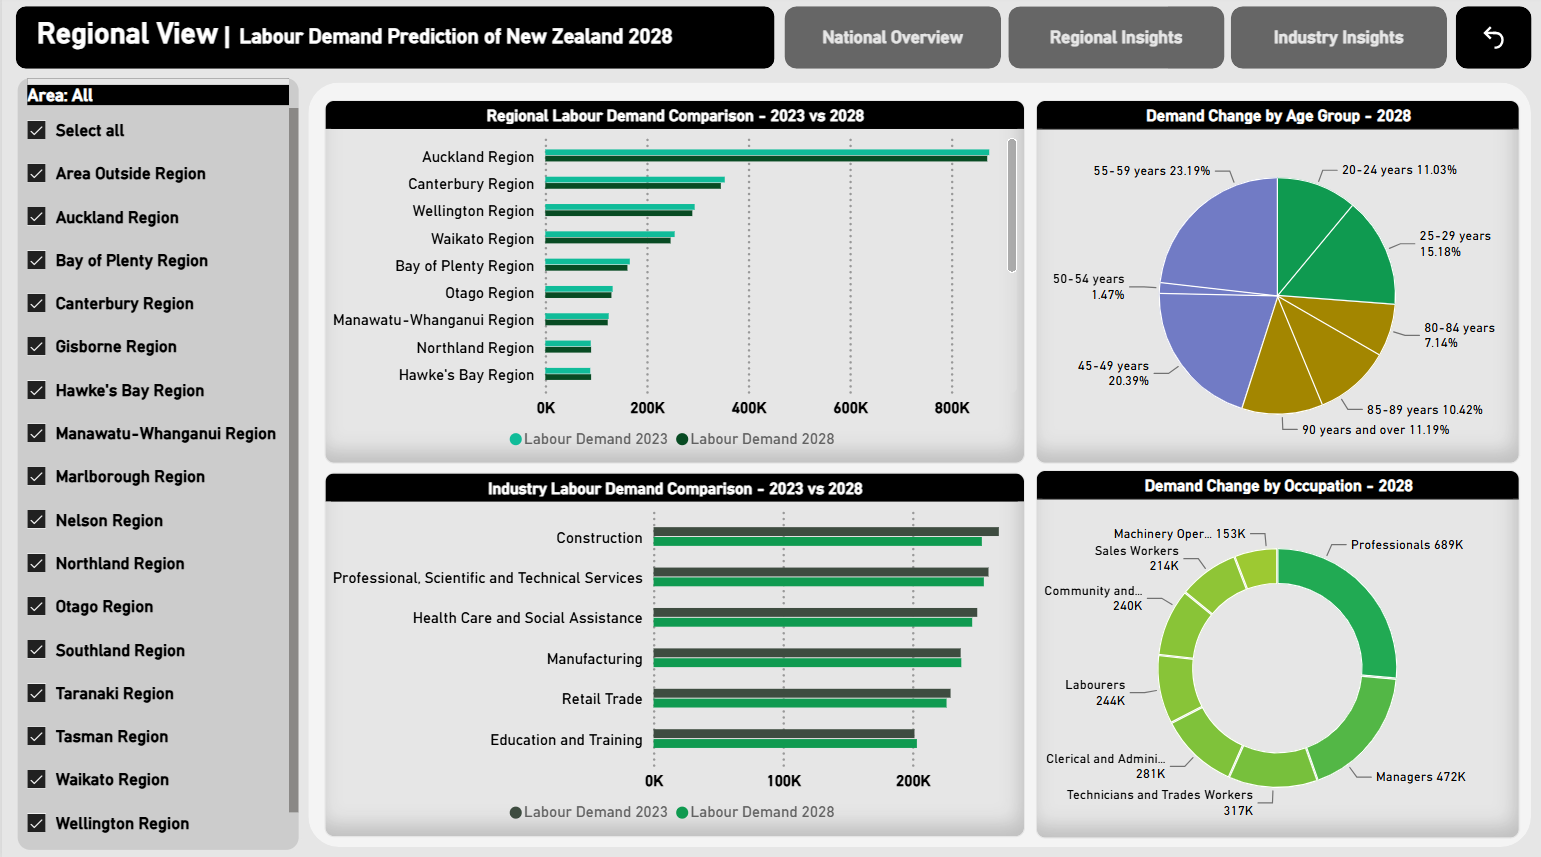

What the dashboard file says about the page in this screenshot:
{"tool":"powerbi","page":{"name":"Regional_Insights","canvas":[1280,720],"ordinal":1},"visuals":[{"type":"shape","box":[255.1,73.1,1016.7,635.6],"z":0},{"type":"shape","box":[11.4,9.4,630.8,52],"z":1000},{"type":"textbox","box":[29,18,588,33],"z":2000},{"type":"actionButton","box":[650.6,9.4,180,52],"z":3000},{"type":"actionButton","box":[836.6,9.4,179.8,52],"z":4000},{"type":"actionButton","box":[1021.8,9,179.8,52],"z":5000},{"type":"actionButton","box":[1209,9,63,52],"z":9000},{"type":"clusteredBarChart","title":"Regional Labour Demand Comparison - 2023 vs 2028","fields":{"Category":["LabourPred2028.area"],"Y":["LabourPred2028.Labour Demand 2023","LabourPred2028.Labour Demand 2028"]},"box":[267.9,87.2,582.1,302.6],"z":10000},{"type":"pieChart","title":"Demand Change by Age Group - 2028","fields":{"Category":["LabourPred2028.age_group"],"Y":["LabourPred2028.Demand Change"],"Series":["LabourPred2028.age"]},"box":[859,87.2,402.6,302.6],"z":11000},{"type":"slicer","fields":{"Values":["LabourPred2028.area"]},"box":[11.5,67.9,237.2,644.9],"z":12000},{"type":"clusteredBarChart","title":"Industry Labour Demand Comparison - 2023 vs 2028","fields":{"Category":["LabourPred2028.industry"],"Y":["LabourPred2028.Labour Demand 2023","LabourPred2028.Labour Demand 2028"]},"box":[267.9,397.4,582.1,303.1],"z":13000},{"type":"donutChart","title":"Demand Change by Occupation - 2028","fields":{"Category":["LabourPred2028.occupation"],"Y":["LabourPred2028.Labour Demand 2028"]},"box":[859,395.1,402.6,306.2],"z":14000}]}

Visuals, with their boxes in screenshot pixels (x1, y1, x2, y2), scaled from the page's 1280x720 canvas onto the 1541x857 screenshot:
shape: (307, 87, 1531, 844)
shape: (14, 11, 773, 73)
textbox: (35, 21, 743, 61)
actionButton: (783, 11, 1000, 73)
actionButton: (1007, 11, 1224, 73)
actionButton: (1230, 11, 1447, 73)
actionButton: (1456, 11, 1531, 73)
"Regional Labour Demand Comparison - 2023 vs 2028" clusteredBarChart: (323, 104, 1023, 464)
"Demand Change by Age Group - 2028" pieChart: (1034, 104, 1519, 464)
slicer - LabourPred2028.area: (14, 81, 299, 848)
"Industry Labour Demand Comparison - 2023 vs 2028" clusteredBarChart: (323, 473, 1023, 834)
"Demand Change by Occupation - 2028" donutChart: (1034, 470, 1519, 835)
